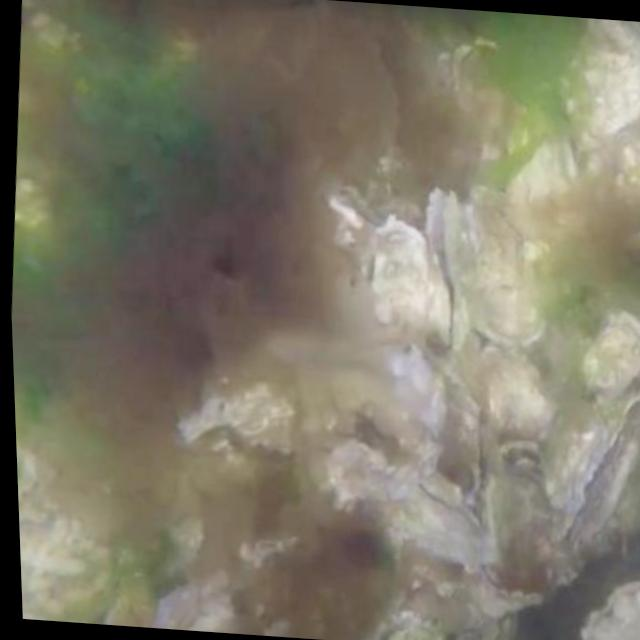Oyster-Closed: (359, 214, 448, 346), (582, 579, 640, 640)
Oyster-Indeterminate: (468, 196, 544, 350), (172, 369, 298, 454), (375, 492, 490, 571), (512, 135, 578, 253), (562, 45, 640, 139), (477, 350, 550, 442), (578, 313, 640, 395), (467, 575, 538, 622), (17, 449, 39, 513)
Oyster-Open: (547, 390, 640, 552), (421, 188, 475, 350)
